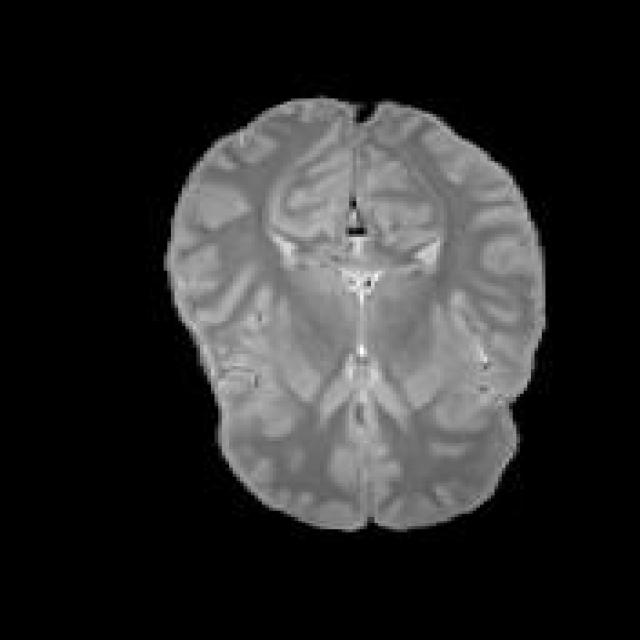CONTROL: (164, 92, 546, 532)
